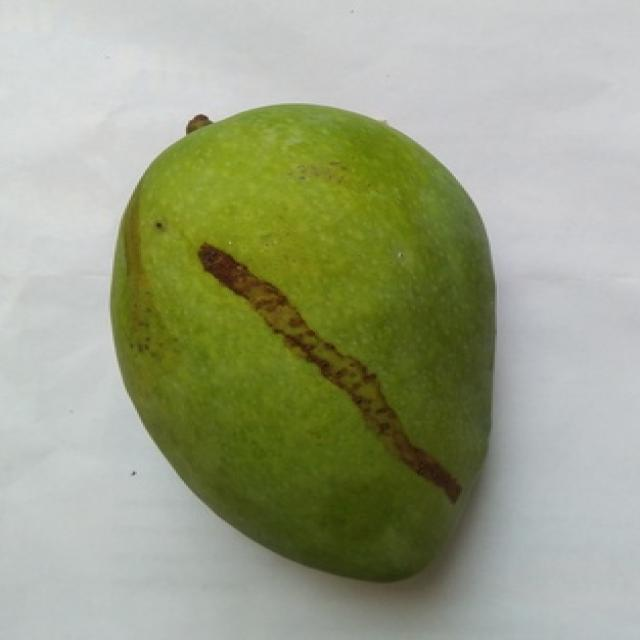Mango: (112, 105, 491, 581)
